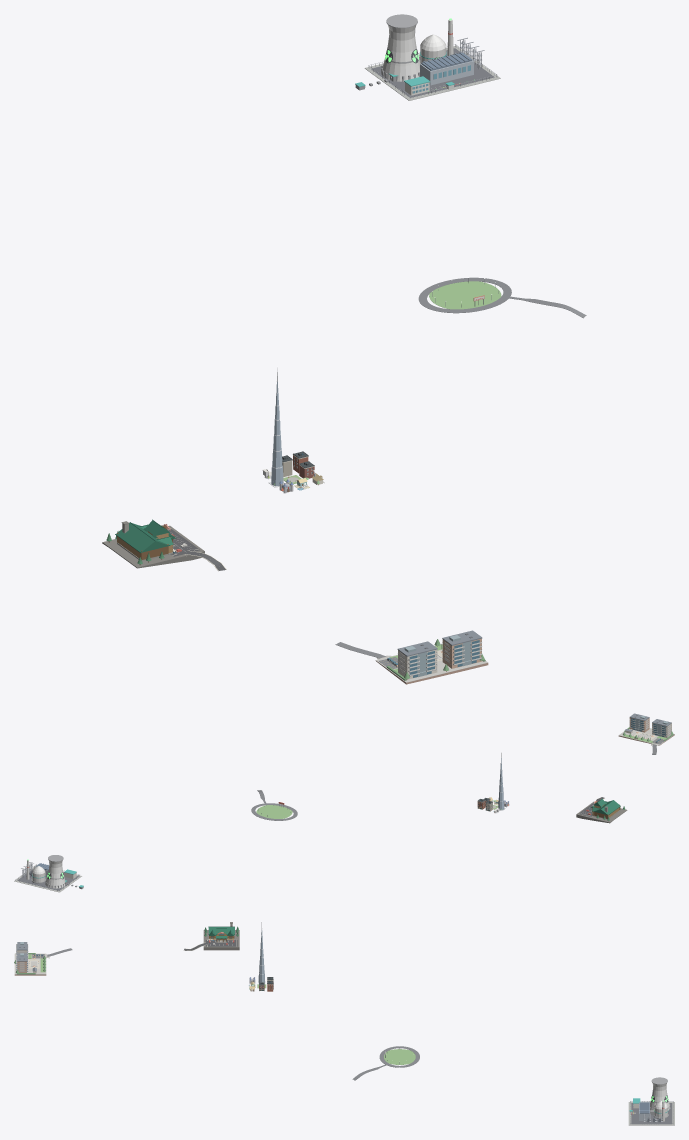
Rendered from downtown-block-p0-p0.glb.
The picture shows the model from 3 angles, top to bottom: view 1: azimuth 30°, elevation 25°; view 2: azimuth 150°, elevation 25°; view 3: azimuth 270°, elevation 25°; orthographic projection. The views are drawn at different scales.
Parts seen in each view (by area): view 1: foodcourt_green.001, foodcourt_loop.001; view 2: foodcourt_green.001; view 3: foodcourt_green.001, np_yard.001.
Part boxes in pixels (box(x1,y1,x2,y2)): foodcourt_green.001: box(429, 281, 501, 309); foodcourt_loop.001: box(418, 277, 511, 313); foodcourt_green.001: box(256, 805, 292, 818); foodcourt_green.001: box(384, 1049, 415, 1064); np_yard.001: box(631, 1103, 672, 1124).
Bounding box in the file's own units: 640 × 93.6 × 913.
